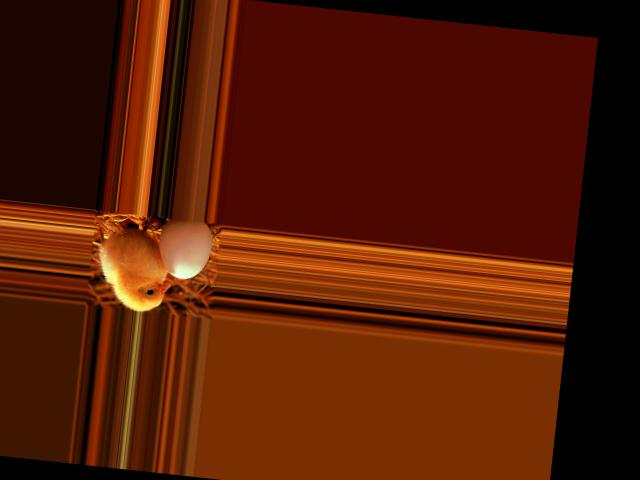egg: (155, 216, 213, 281)
